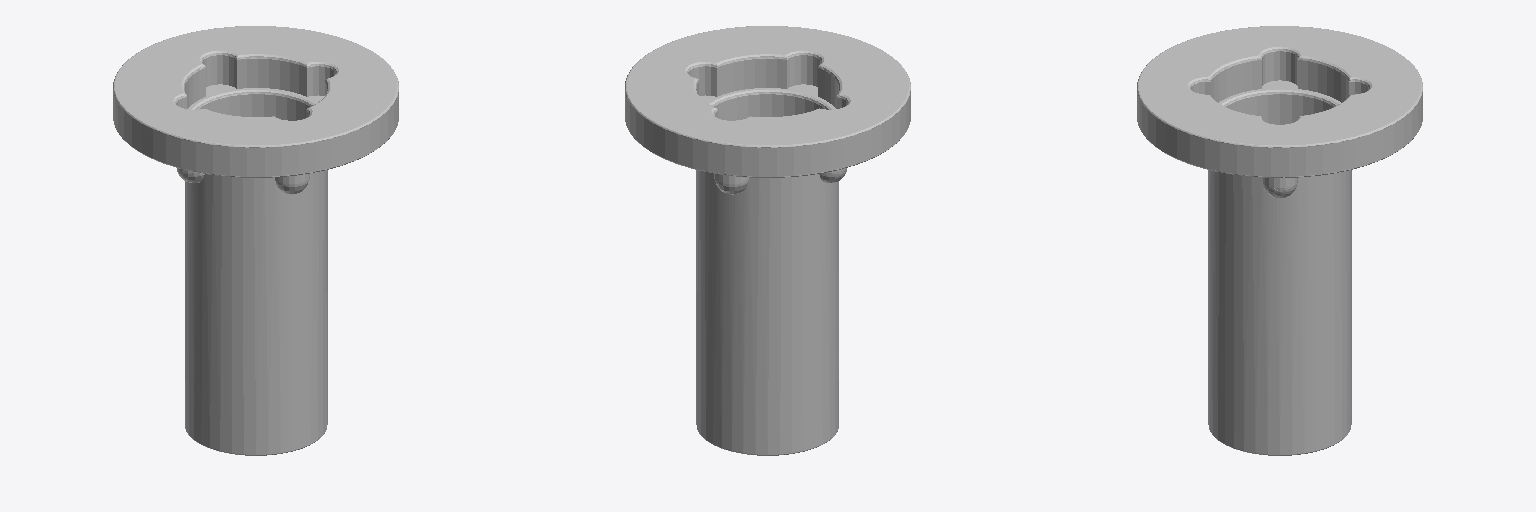
Rendered from Randverbinder1.obj.
3 views of the same model, side by side, from view 1: azimuth 30°, elevation 25°; view 2: azimuth 150°, elevation 25°; view 3: azimuth 270°, elevation 25° (orthographic).
Visible parts, largest first — view 1: Volumenkörper1; view 2: Volumenkörper1; view 3: Volumenkörper1.
Boxes of the visible parts, box(x1,y1,x2,y2) form: Volumenkörper1: box(113, 26, 398, 455); Volumenkörper1: box(625, 26, 910, 455); Volumenkörper1: box(1137, 26, 1422, 455).
Size of the model in its own units: 79.95 by 105 by 79.96.